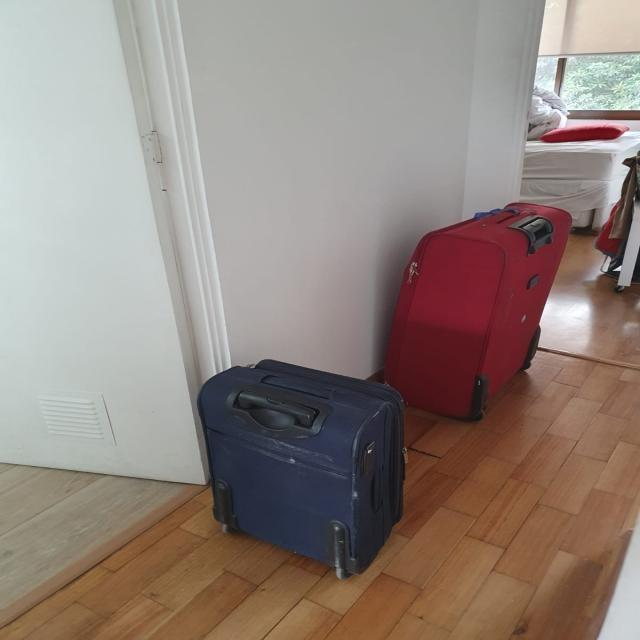Suitcase: (198, 355, 406, 583), (390, 200, 572, 420)
